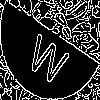W: (25, 25, 74, 87)
